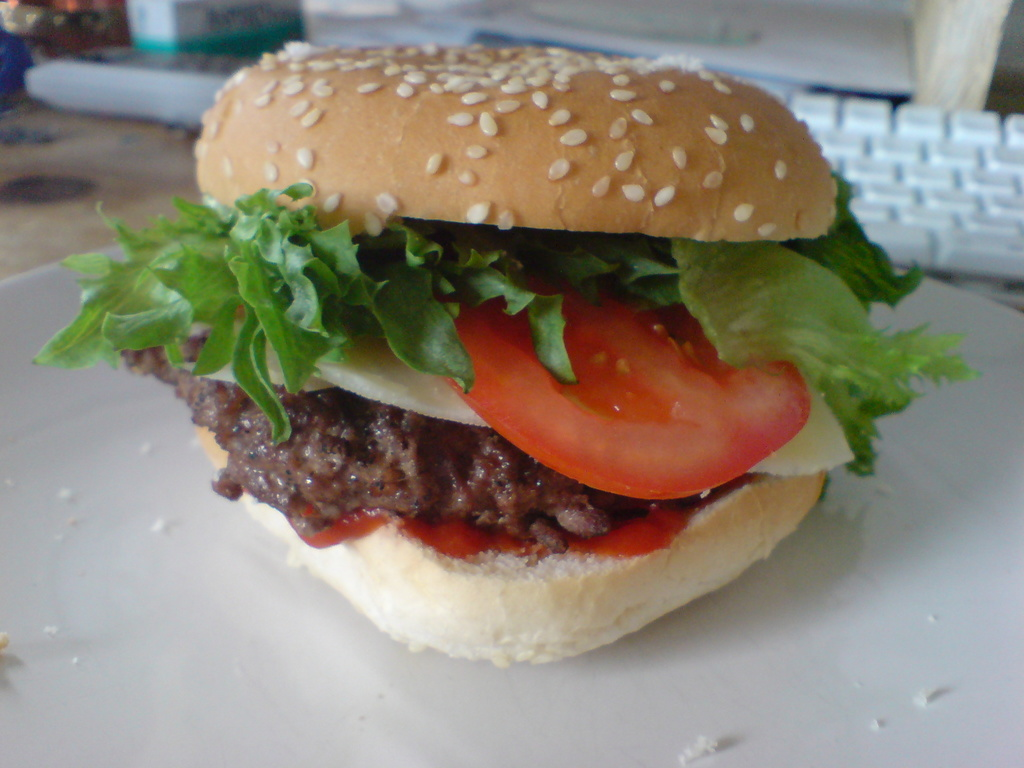Hamburger: (36, 39, 979, 664)
